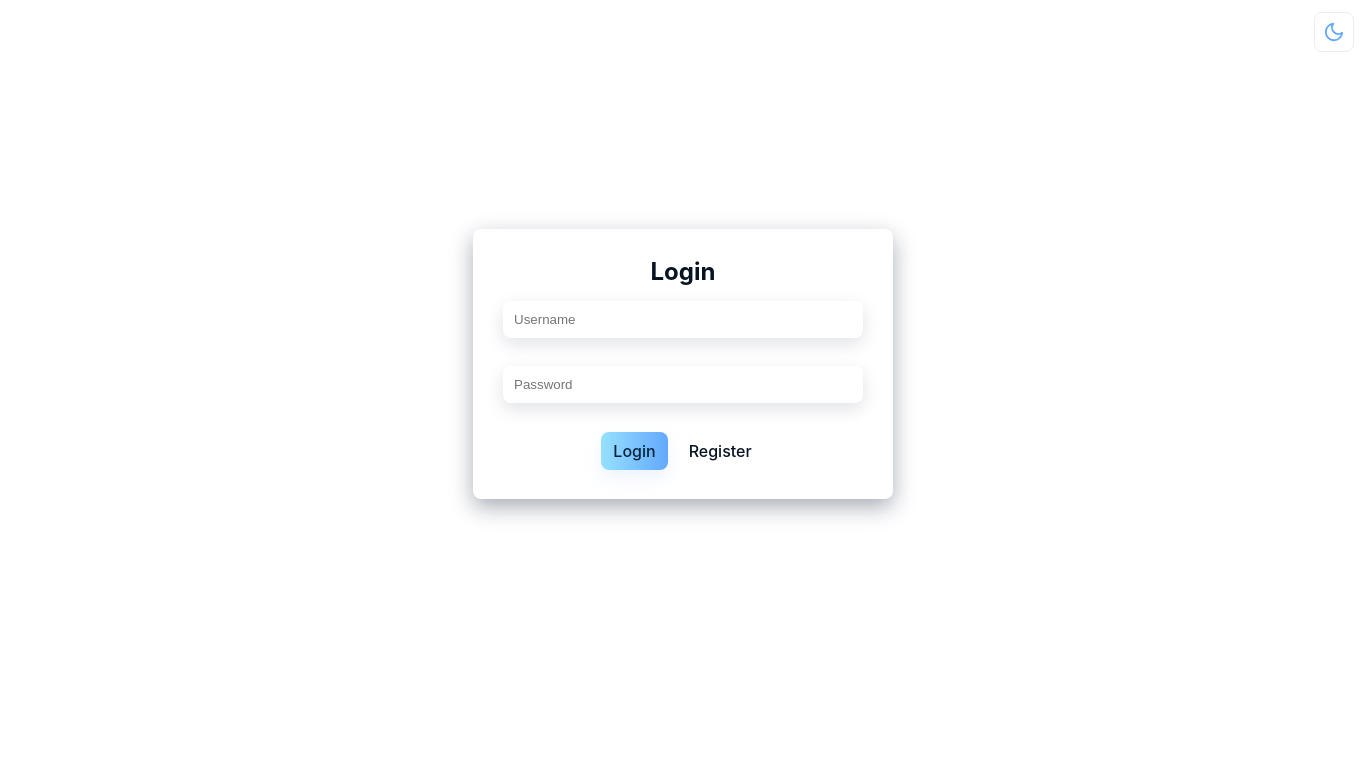
Test: Login flow › should allow login and show header
In the field with placeholder "Username": (683, 320) [503,301,863,338], type "testuser"
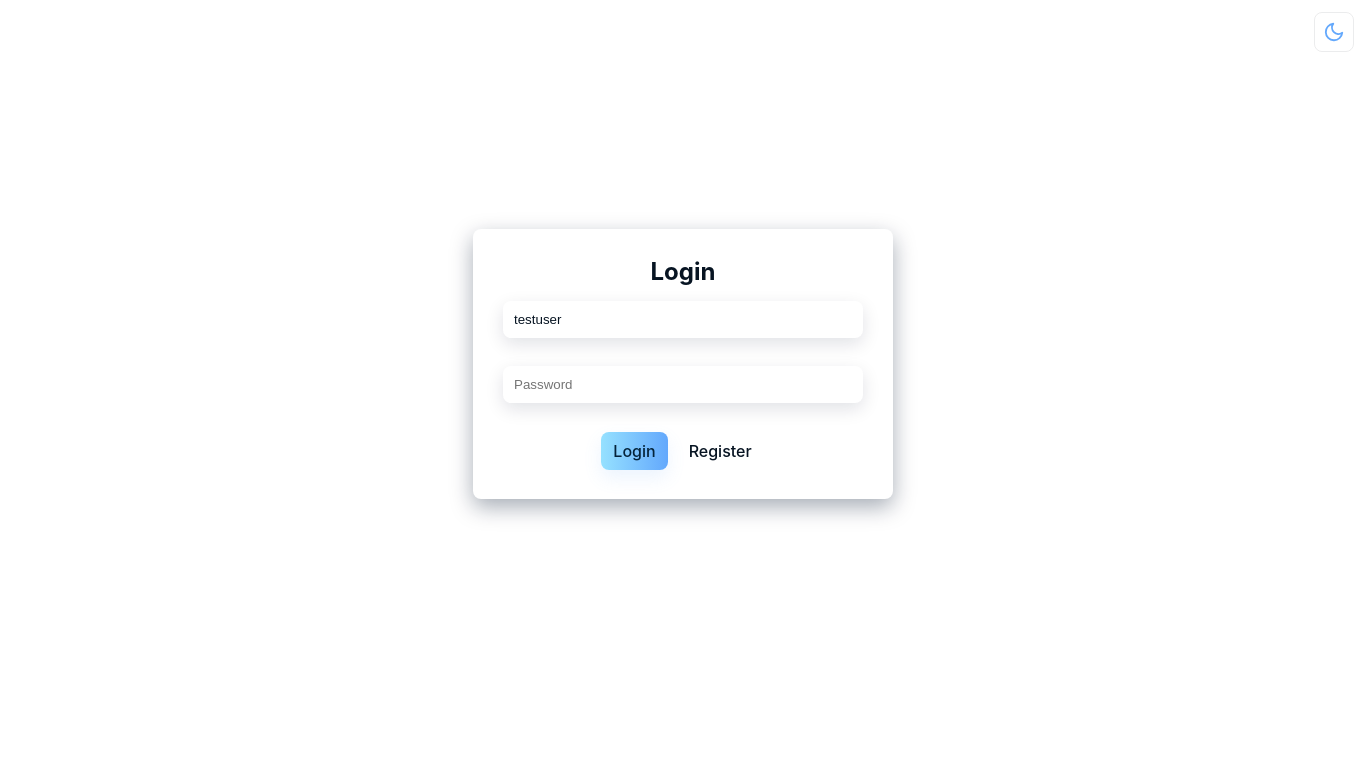
In the password field with placeholder "Password": (683, 384) [503,366,863,403], type "testpass"
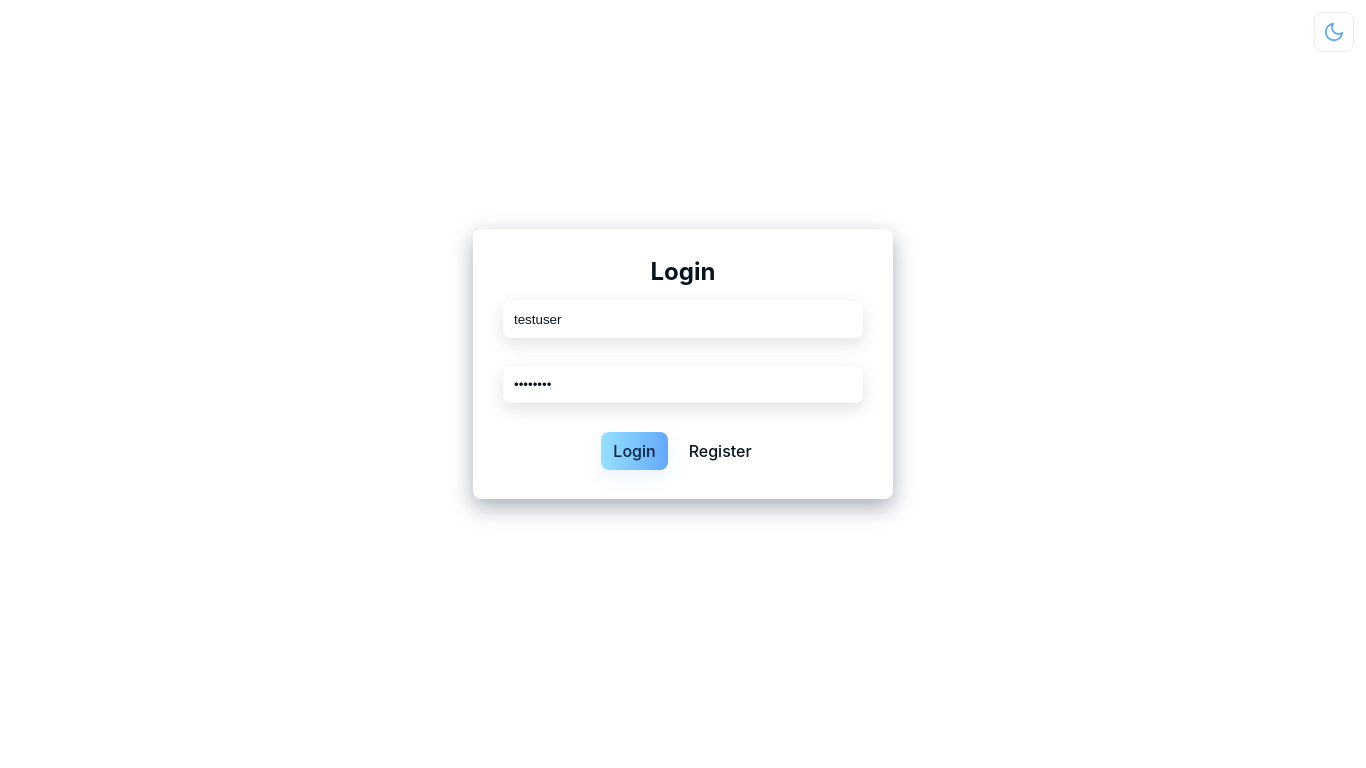
Click the button "Login": click(635, 451) [601,432,668,470]
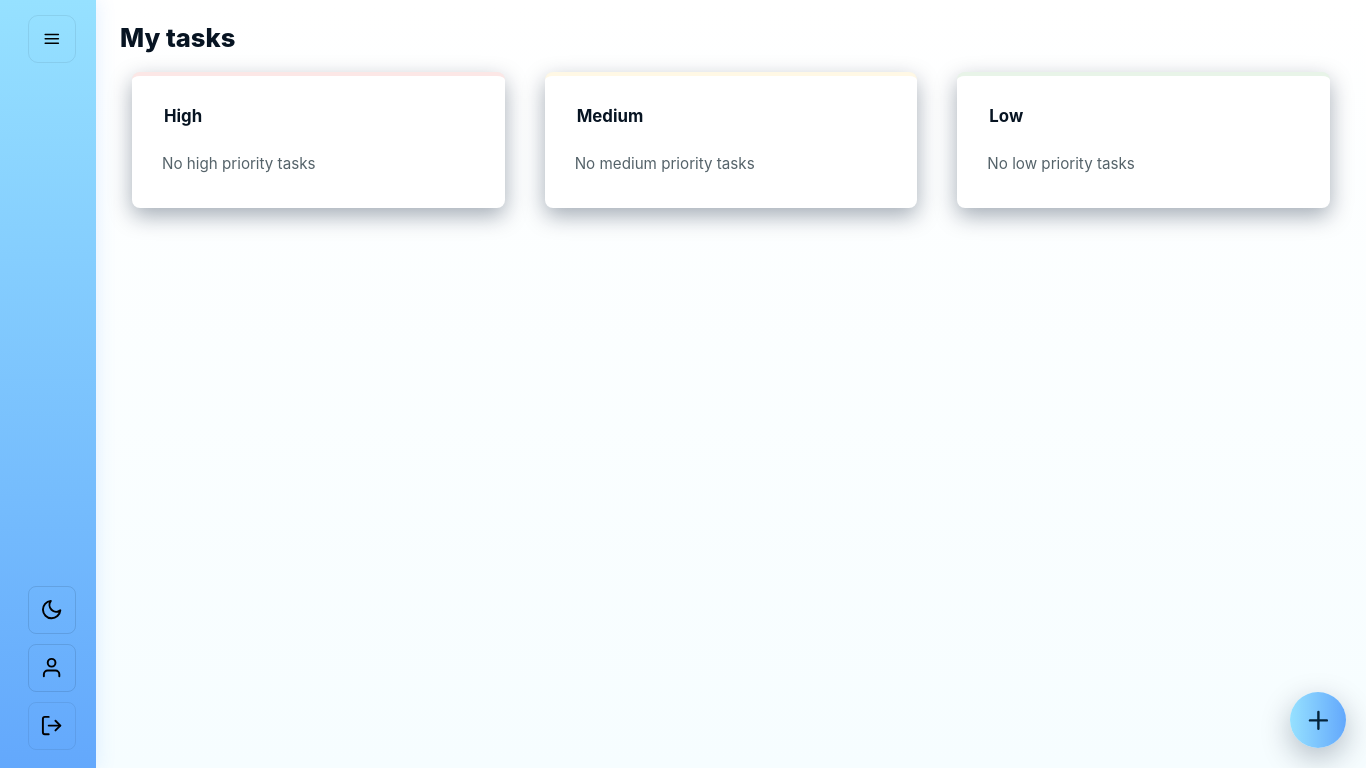
Expected: the button named "profile" is shown, [28,644,76,692]
Expected: the button named "toggle night mode" is shown, [28,586,76,634]
